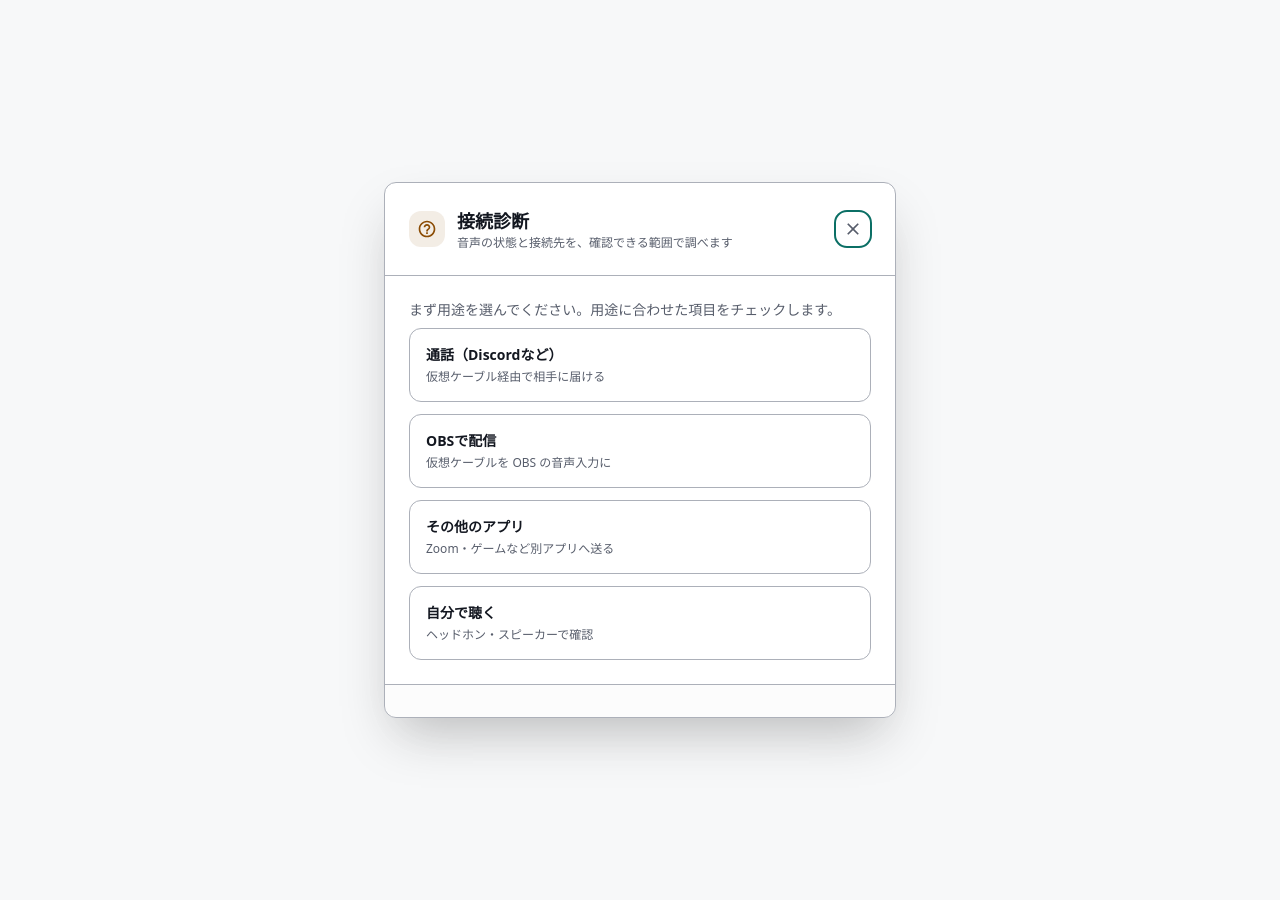
Test case: CABLE-A Inputの到達確認は、同じ系統・ホストのOutputだけを検査する
Click the button "OBSで配信 仮想ケーブルを OBS の音声入力に" at coordinates (461, 440), box [409,414,871,488]
Wait 6100 ms
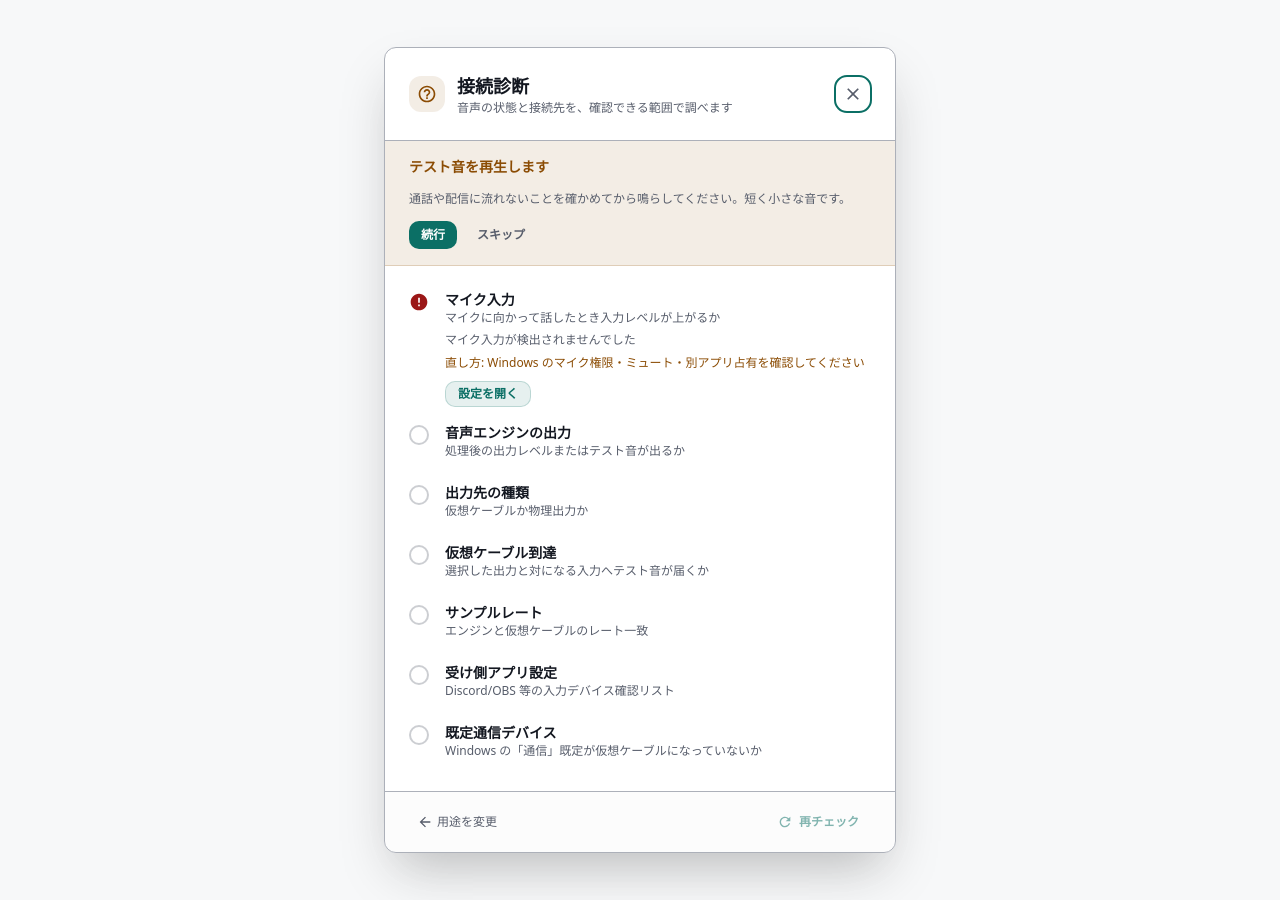
Click the button "スキップ" at coordinates (501, 235), box [465,221,537,249]
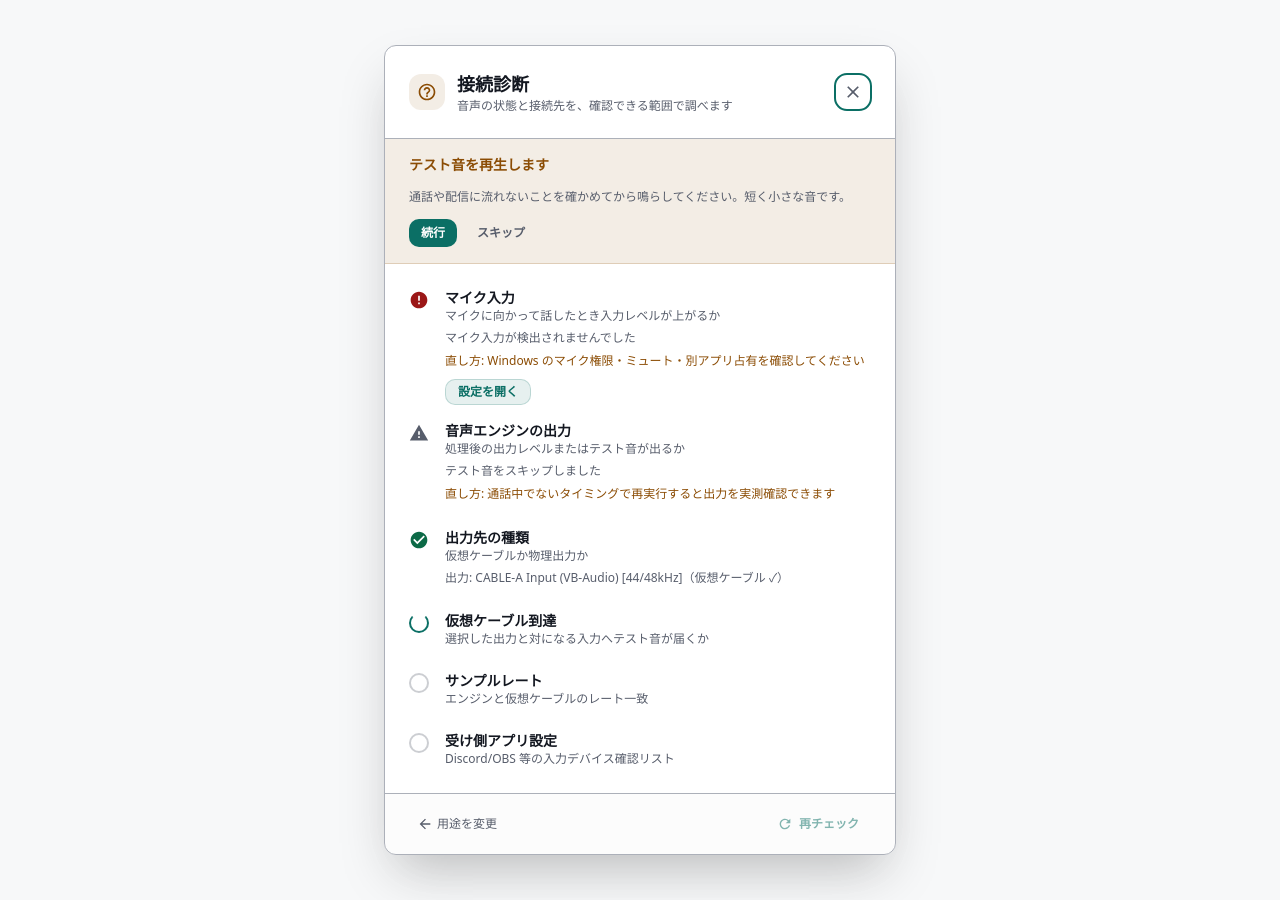
Click the button "続行" at coordinates (433, 232), box [409,218,457,246]
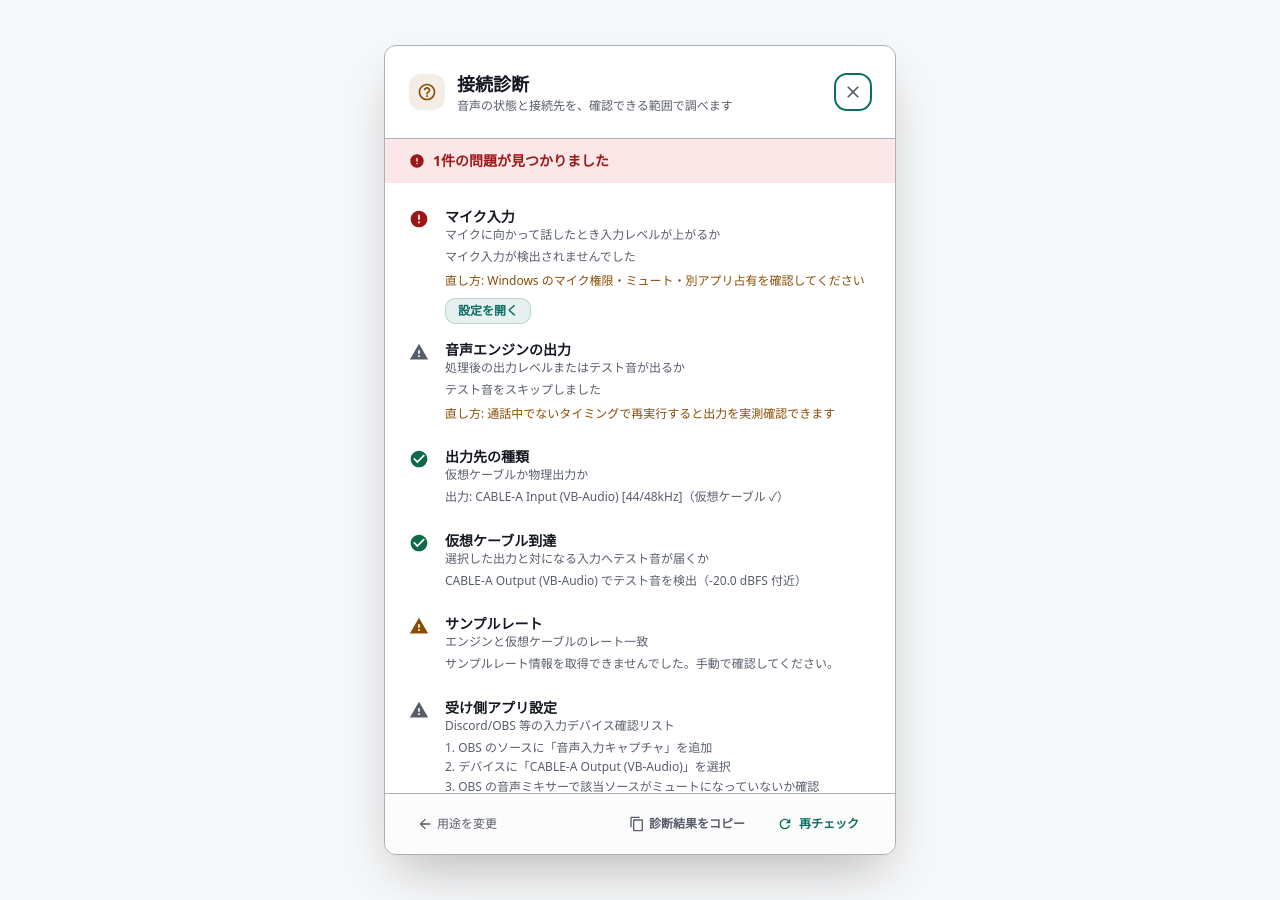
Check: the text "OBS のソースに" shows "CABLE-A Output", box [445,738,829,793]
